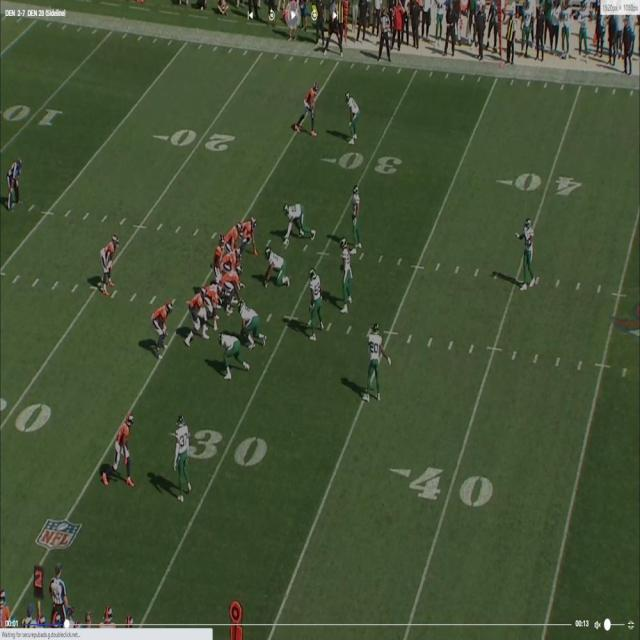center: (226, 262, 242, 308)
db: (173, 417, 196, 499), (370, 323, 385, 403), (519, 220, 535, 291), (347, 90, 363, 140), (350, 188, 361, 254), (226, 600, 246, 622)
lb: (306, 271, 326, 341), (339, 237, 354, 311)
qb: (212, 236, 224, 286)
skill: (107, 411, 134, 478), (100, 233, 118, 289), (155, 298, 171, 361), (300, 83, 319, 131), (244, 212, 258, 258)
